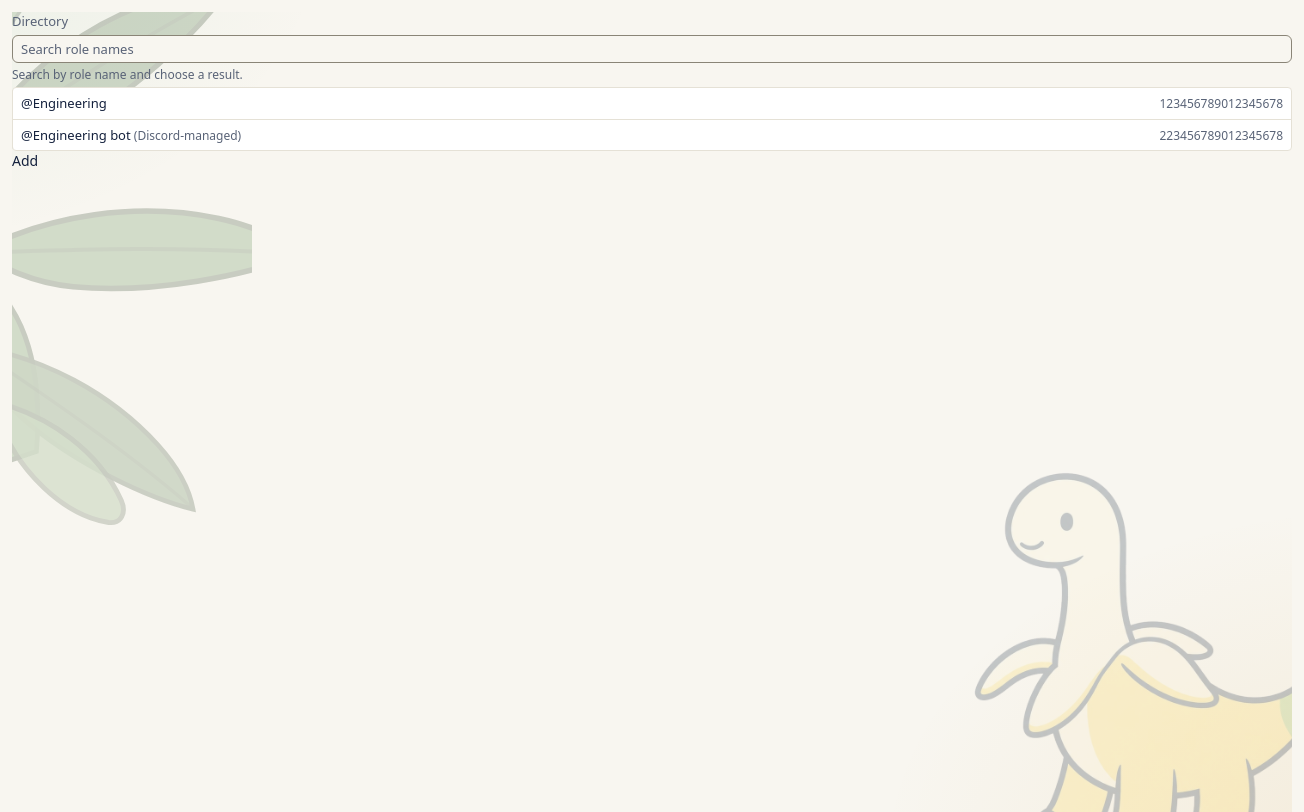
Test: keeps the list open between choices and returns focus after choosing the second
The image size is (1304, 812).
Expected: the button "@Engineering 123456789012345678" is shown, [13,88,1291,119]
Press Tab
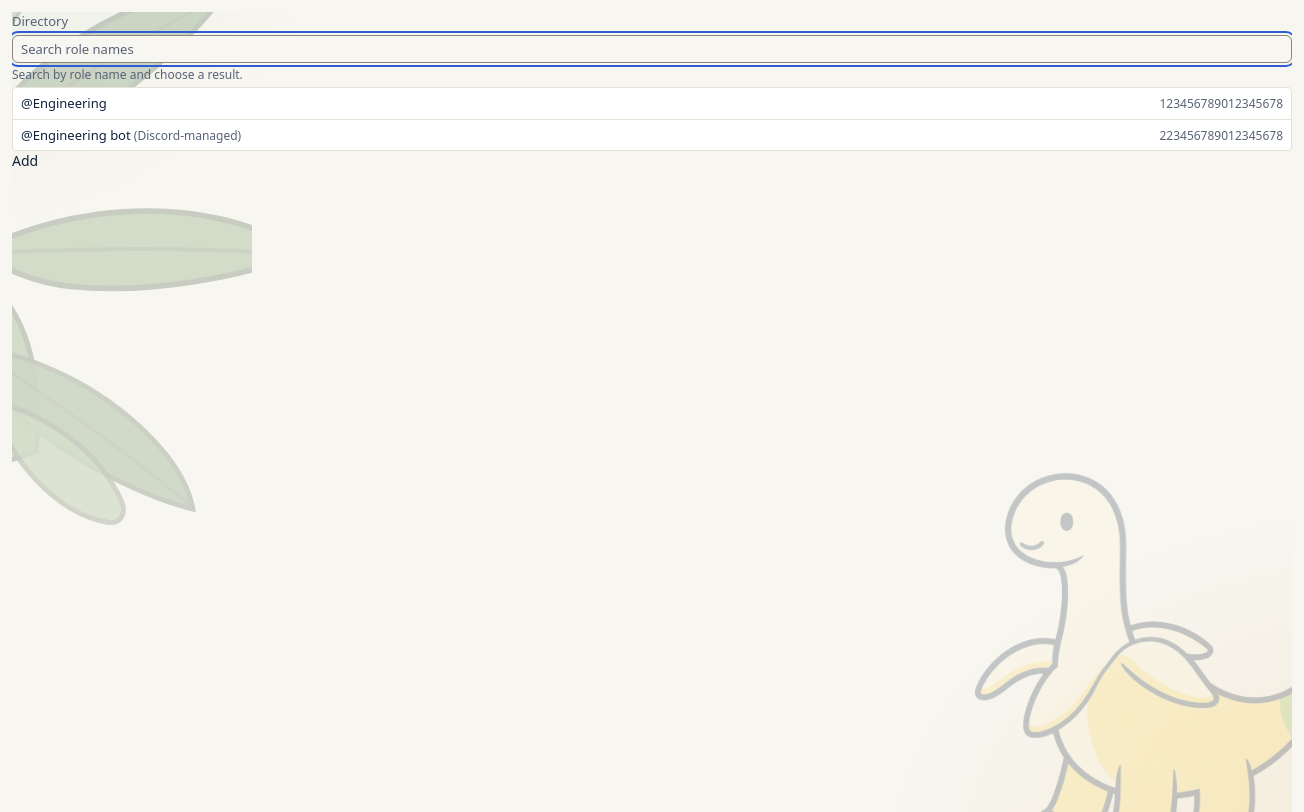
In the field: (652, 49) [12,35,1292,63], type "engineer"
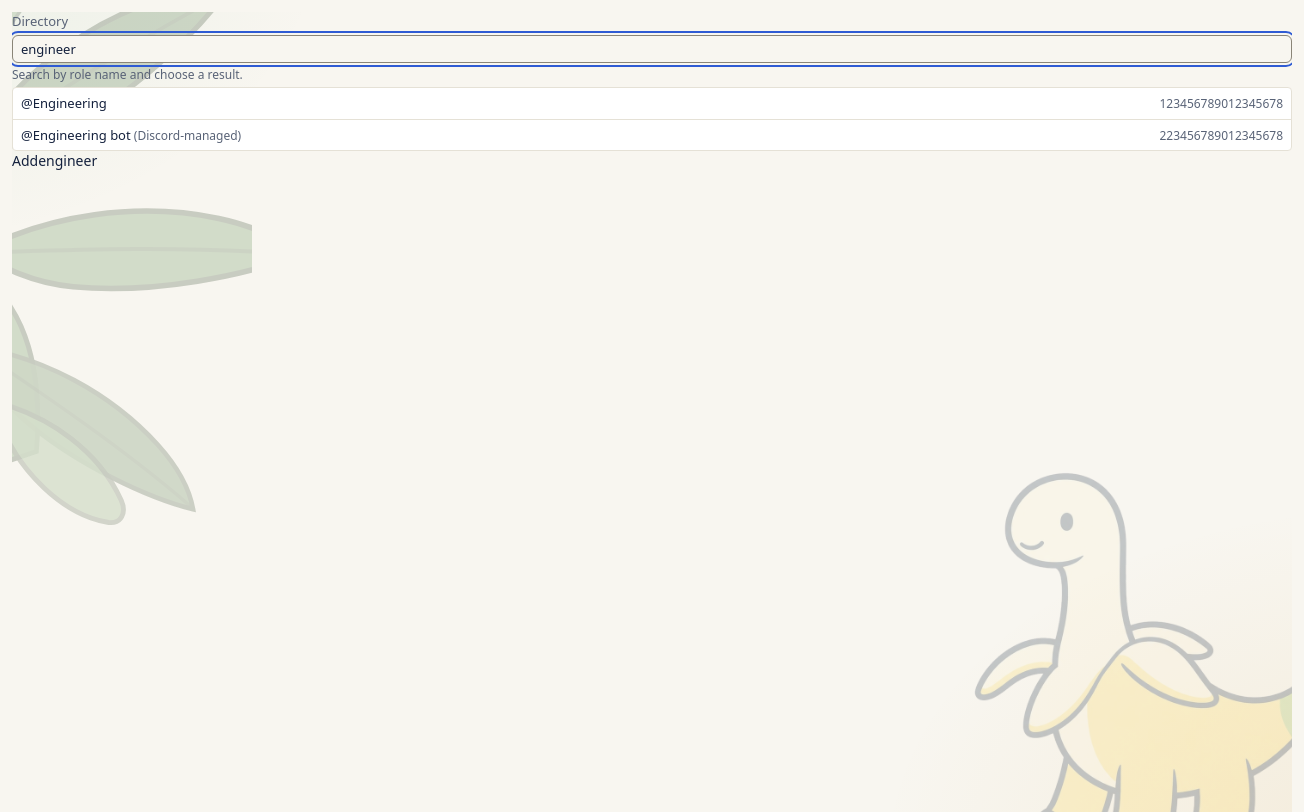
Press Tab
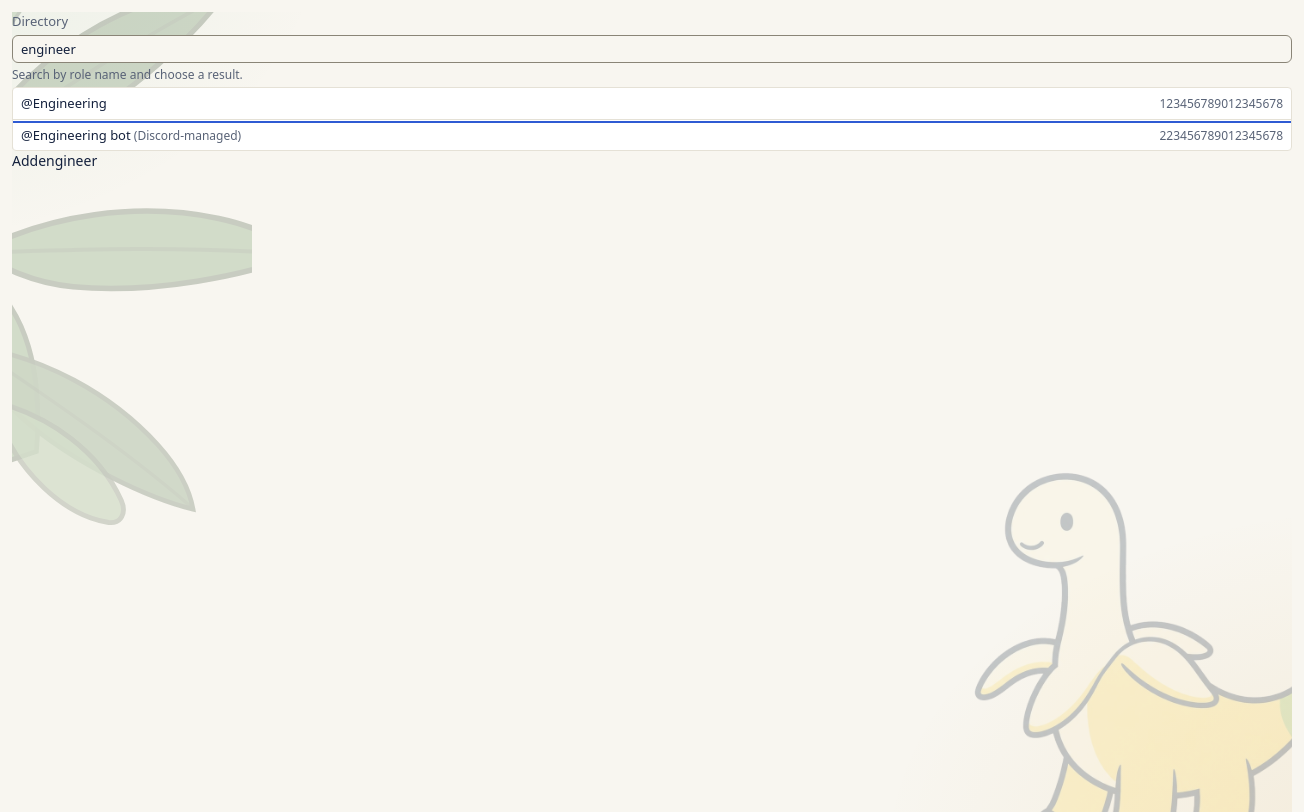
Press Tab
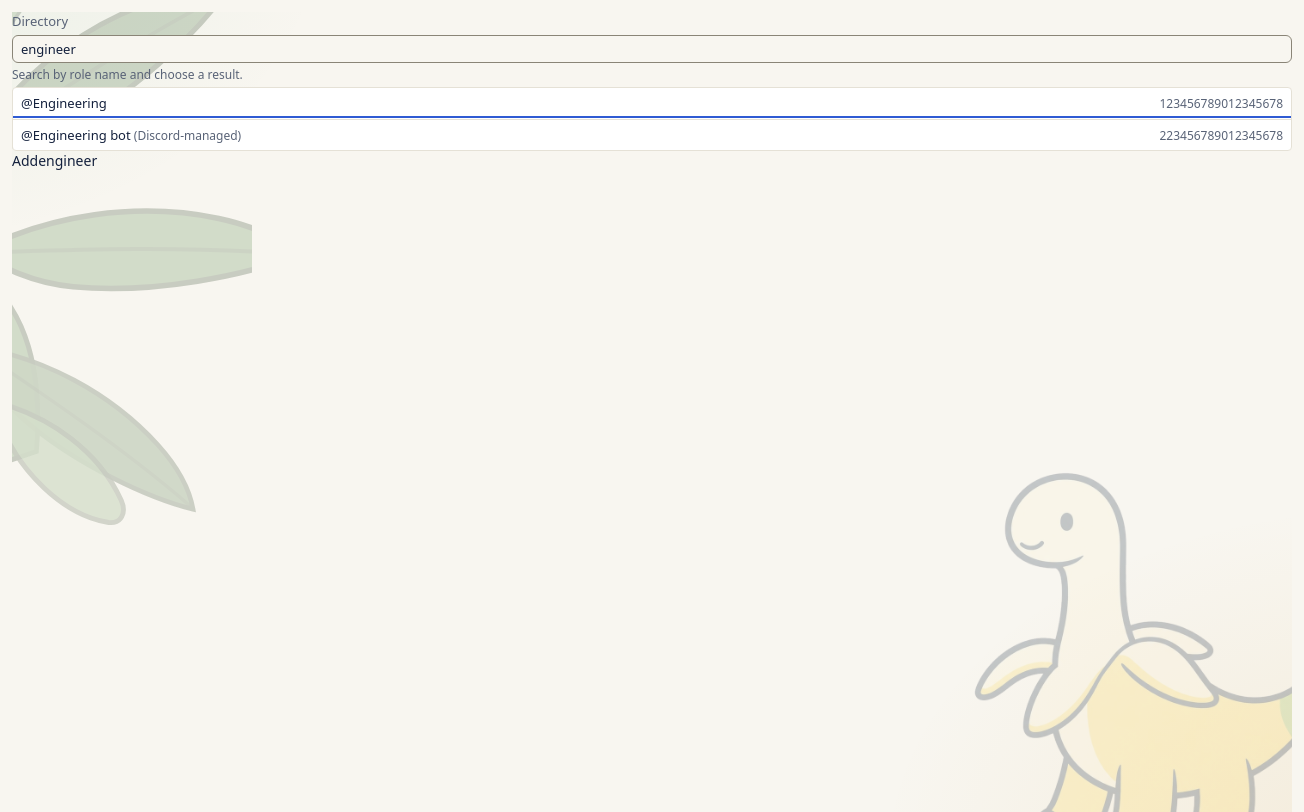
Press Enter
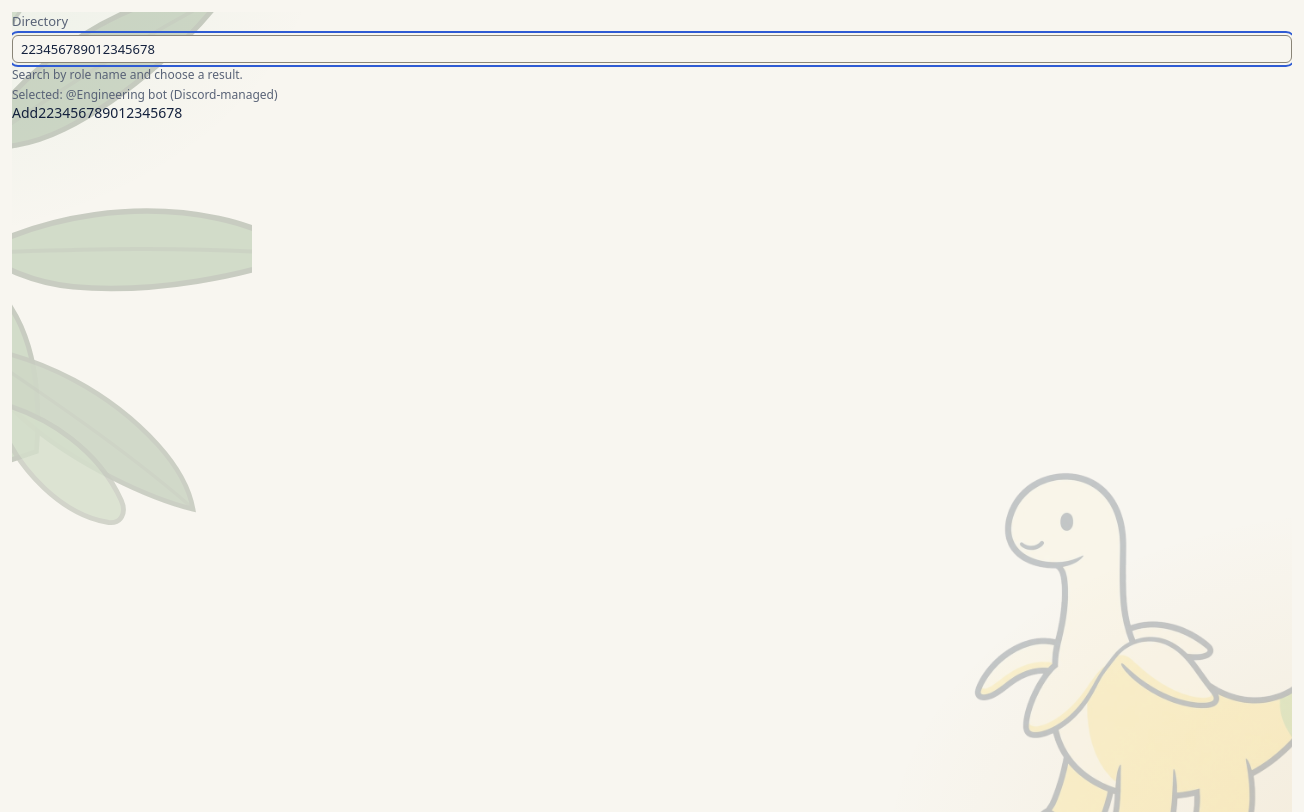
Expected: the text "Selected: @Engineering bot (Discord-managed)" is shown, [12,86,278,103]
